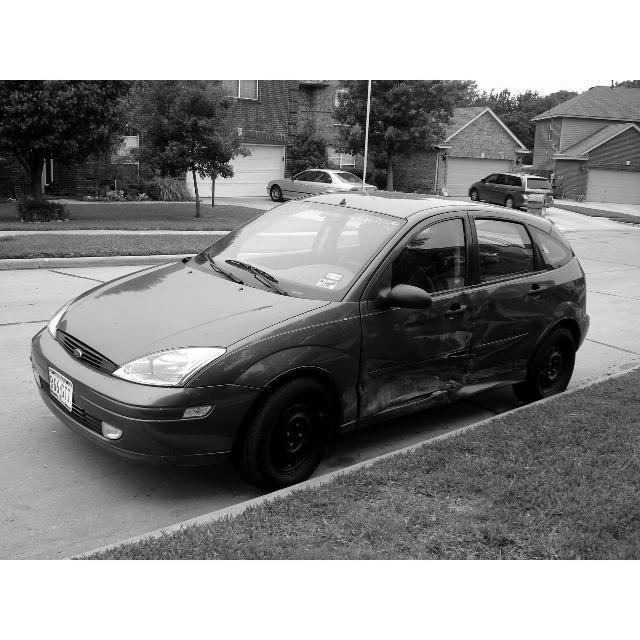Runningboard-Damage: (342, 369, 541, 425)
doorouter-dent: (346, 293, 462, 403), (458, 291, 536, 393)
